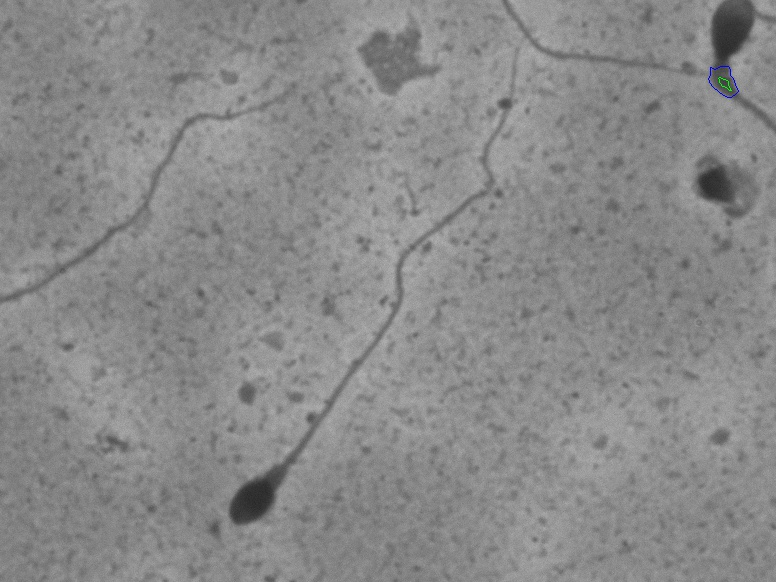Normal: (215, 28, 532, 542)
